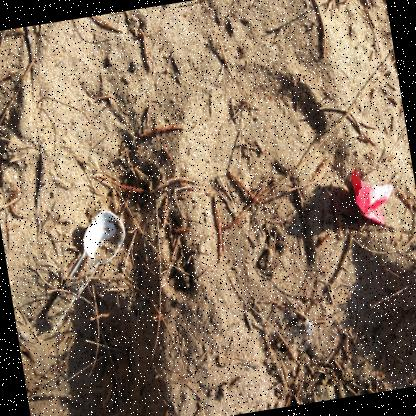Other plastic: (351, 168, 394, 226)
Plastic utensils: (45, 210, 125, 326)
Unlabeled litter: (305, 315, 314, 335)
